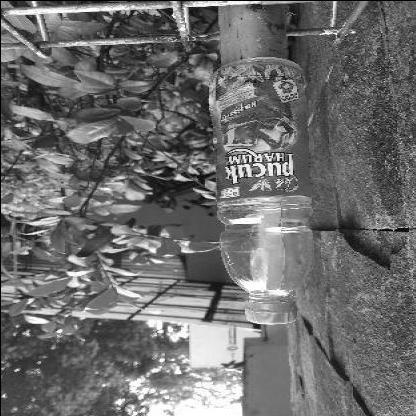plastic_bottles: (202, 50, 318, 325)
